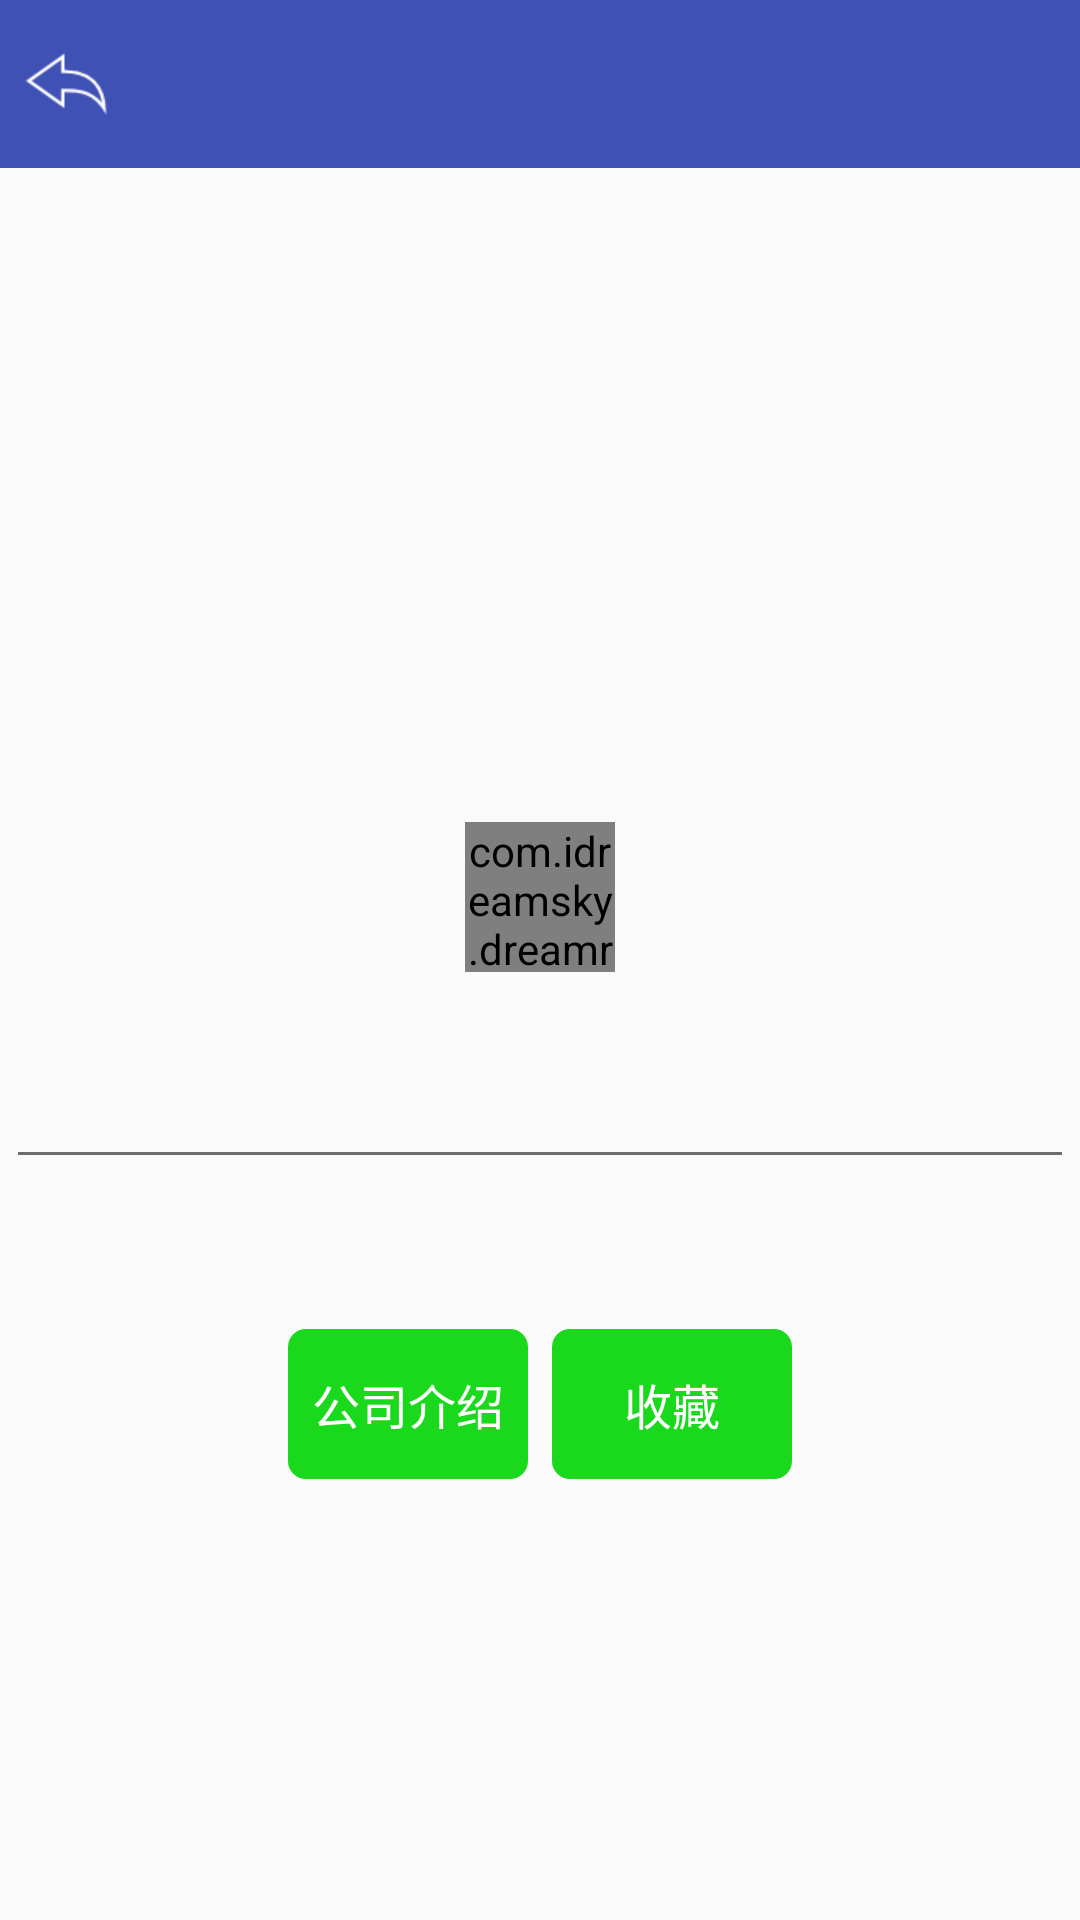

Icons on this 1080px x 1920px Android screen, each with the point to tap as (x,y):
back: (66,83)
